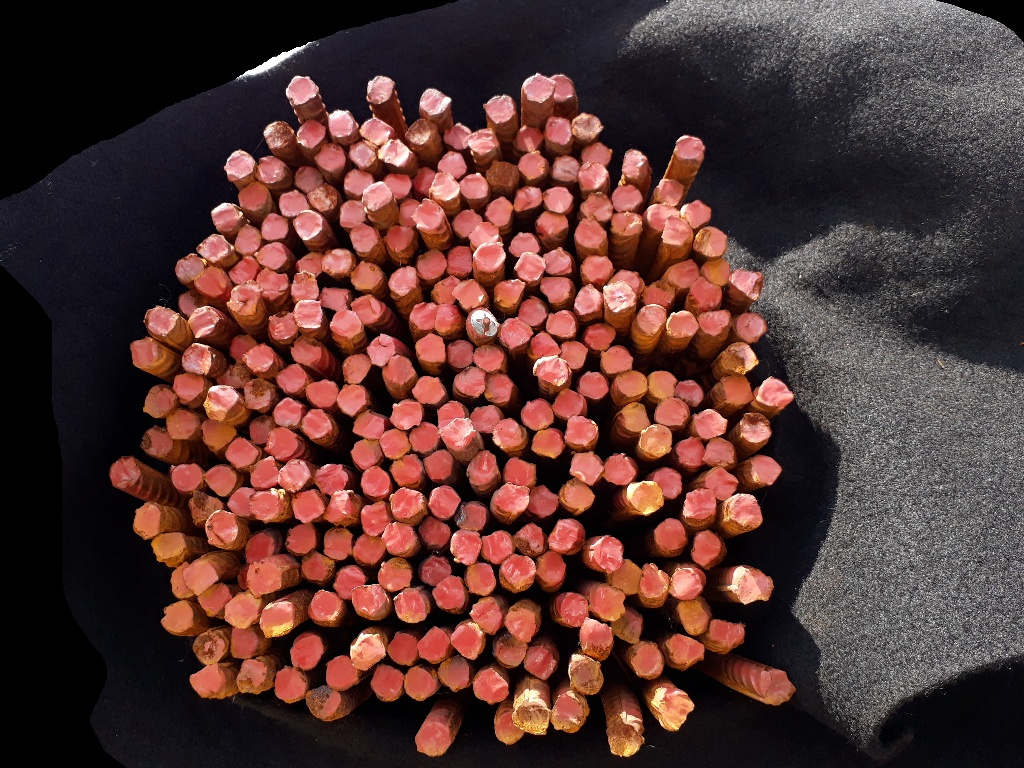dipstick: (736, 566, 774, 604), (659, 690, 694, 731), (472, 667, 509, 705), (547, 517, 586, 553), (579, 620, 614, 659), (606, 559, 643, 595), (323, 489, 360, 525), (416, 625, 449, 665), (535, 548, 566, 590), (349, 633, 385, 669), (352, 584, 390, 618), (181, 561, 219, 595), (675, 599, 710, 635), (570, 451, 606, 486), (607, 722, 644, 756), (570, 658, 604, 695), (502, 552, 536, 588), (205, 385, 239, 421), (721, 341, 758, 374), (466, 448, 499, 485), (470, 596, 501, 635), (730, 493, 764, 528), (247, 563, 282, 597), (710, 617, 746, 650), (437, 656, 470, 692), (415, 724, 451, 757), (326, 654, 359, 690), (305, 685, 341, 718), (390, 487, 426, 520), (756, 375, 794, 406), (551, 694, 582, 732), (512, 704, 550, 735), (666, 633, 705, 663), (762, 670, 796, 704), (610, 610, 644, 644), (730, 267, 765, 300), (703, 467, 738, 500), (290, 635, 323, 670), (379, 557, 412, 592), (205, 510, 238, 545), (196, 583, 231, 616), (654, 516, 686, 552), (524, 645, 556, 681), (560, 480, 596, 512), (403, 666, 435, 702), (189, 666, 226, 697), (452, 622, 482, 660), (683, 487, 717, 520), (631, 481, 664, 515), (495, 482, 529, 515), (668, 568, 703, 600), (537, 211, 569, 246), (465, 307, 497, 342), (382, 521, 417, 553), (133, 500, 161, 540), (502, 455, 538, 486), (360, 500, 391, 536), (195, 234, 234, 262), (602, 453, 635, 486), (481, 371, 514, 404), (432, 576, 465, 609), (291, 490, 324, 523), (694, 226, 728, 258), (733, 311, 767, 343), (719, 373, 753, 405), (631, 645, 663, 679), (527, 483, 559, 517), (307, 590, 341, 622), (264, 428, 298, 460), (203, 465, 237, 497), (690, 530, 721, 565), (259, 606, 294, 637), (202, 418, 237, 449), (142, 387, 177, 418), (192, 266, 228, 296), (603, 280, 636, 312), (594, 587, 626, 620), (505, 609, 538, 641), (491, 418, 523, 451), (449, 530, 482, 562), (408, 421, 440, 454), (428, 485, 460, 518), (256, 268, 289, 300), (639, 425, 673, 456), (564, 415, 598, 446), (480, 529, 511, 563), (314, 463, 348, 494), (236, 659, 267, 693), (225, 436, 259, 467), (109, 455, 140, 489), (533, 355, 568, 385), (371, 666, 403, 698), (412, 198, 444, 230), (278, 459, 310, 491), (739, 412, 772, 443), (702, 436, 735, 467), (387, 633, 418, 666), (394, 591, 427, 622), (389, 454, 422, 485), (285, 74, 318, 105), (189, 305, 220, 338), (191, 633, 224, 664), (161, 601, 194, 632), (500, 318, 534, 348), (494, 710, 524, 744), (226, 285, 260, 315), (140, 426, 174, 456), (639, 563, 668, 598), (594, 536, 623, 571), (520, 399, 555, 428), (150, 533, 186, 561), (514, 250, 546, 281), (465, 563, 496, 595), (423, 449, 454, 481), (418, 517, 450, 548), (275, 667, 306, 699), (391, 398, 423, 429), (361, 180, 393, 211), (285, 523, 317, 554), (225, 597, 257, 628), (662, 214, 692, 247), (483, 94, 516, 124), (440, 418, 473, 448), (693, 409, 727, 438), (254, 241, 288, 270), (250, 455, 279, 489), (691, 276, 722, 307), (380, 428, 411, 459), (637, 304, 667, 336), (619, 403, 651, 433), (653, 466, 683, 498), (513, 524, 543, 556), (575, 219, 607, 249), (524, 73, 556, 103), (494, 278, 526, 308), (496, 634, 528, 664), (333, 567, 365, 597), (354, 534, 386, 564), (388, 265, 418, 297), (224, 150, 254, 182), (302, 408, 332, 440), (301, 551, 333, 581), (211, 202, 243, 232), (579, 192, 612, 221), (473, 242, 506, 271), (329, 309, 362, 338), (584, 323, 618, 351), (229, 254, 263, 282), (752, 454, 782, 485), (676, 436, 706, 467), (540, 274, 571, 304), (471, 403, 501, 434), (455, 367, 486, 397), (420, 555, 451, 585), (382, 355, 413, 385), (366, 335, 396, 366), (429, 170, 460, 200), (337, 383, 367, 414), (351, 260, 382, 290), (321, 248, 352, 278), (181, 344, 212, 374), (654, 397, 686, 426), (571, 112, 603, 141), (269, 311, 298, 343), (451, 279, 484, 307), (485, 160, 518, 188), (412, 376, 445, 404), (144, 307, 177, 335), (546, 309, 576, 339), (293, 210, 323, 240), (166, 409, 196, 439), (654, 177, 685, 206), (553, 388, 584, 417), (531, 429, 562, 458), (445, 338, 474, 369), (307, 183, 338, 212), (324, 528, 353, 559), (250, 490, 279, 521), (680, 200, 712, 228), (561, 593, 589, 625), (577, 162, 609, 190), (541, 247, 573, 275), (314, 143, 346, 171), (254, 156, 286, 184), (290, 336, 322, 364), (305, 378, 337, 406), (698, 308, 731, 335), (667, 261, 700, 288), (359, 118, 392, 145), (352, 413, 386, 439), (579, 370, 609, 399), (452, 209, 482, 238), (431, 276, 461, 305), (415, 333, 445, 362), (351, 295, 381, 324), (293, 299, 323, 328), (176, 253, 205, 283), (130, 339, 160, 368), (611, 184, 642, 212), (543, 185, 574, 213), (469, 128, 500, 156), (415, 250, 446, 278), (276, 365, 307, 393), (243, 344, 274, 372), (173, 373, 204, 401), (666, 310, 698, 337), (581, 254, 613, 281), (455, 503, 487, 530), (445, 246, 472, 278), (419, 88, 451, 115), (295, 120, 327, 147), (647, 203, 680, 229), (377, 140, 410, 166), (171, 561, 194, 598), (366, 75, 395, 104), (342, 355, 371, 384), (610, 269, 645, 293), (273, 398, 303, 426), (246, 533, 274, 563), (509, 230, 540, 257), (474, 343, 505, 370), (434, 304, 461, 335), (234, 224, 261, 255), (602, 346, 634, 372), (550, 155, 582, 181), (702, 257, 730, 286), (648, 370, 676, 399), (517, 152, 546, 180), (518, 296, 547, 324), (485, 196, 513, 225), (437, 151, 466, 179), (350, 223, 378, 252), (264, 122, 293, 150), (513, 125, 543, 152), (385, 224, 415, 251), (292, 271, 319, 301), (227, 486, 254, 516), (622, 149, 648, 180), (343, 170, 375, 195), (278, 190, 310, 215), (560, 340, 588, 368), (349, 140, 377, 168), (239, 182, 267, 210), (261, 212, 290, 239), (230, 334, 257, 363), (244, 378, 270, 408), (444, 122, 471, 150), (339, 200, 367, 227), (545, 117, 571, 146), (514, 185, 543, 211), (459, 173, 488, 199), (437, 401, 466, 427), (329, 109, 355, 138), (294, 166, 323, 192), (674, 379, 704, 404), (617, 370, 647, 395), (549, 73, 574, 103), (320, 286, 350, 311), (231, 628, 256, 658), (642, 283, 676, 305), (409, 302, 435, 330), (575, 284, 600, 313), (611, 213, 642, 236), (581, 142, 612, 164), (412, 167, 436, 195), (470, 222, 500, 244), (676, 135, 703, 159), (296, 253, 324, 276), (385, 174, 411, 198), (250, 415, 271, 444), (405, 120, 431, 143), (399, 198, 420, 226), (179, 290, 201, 315), (238, 566, 249, 589)
